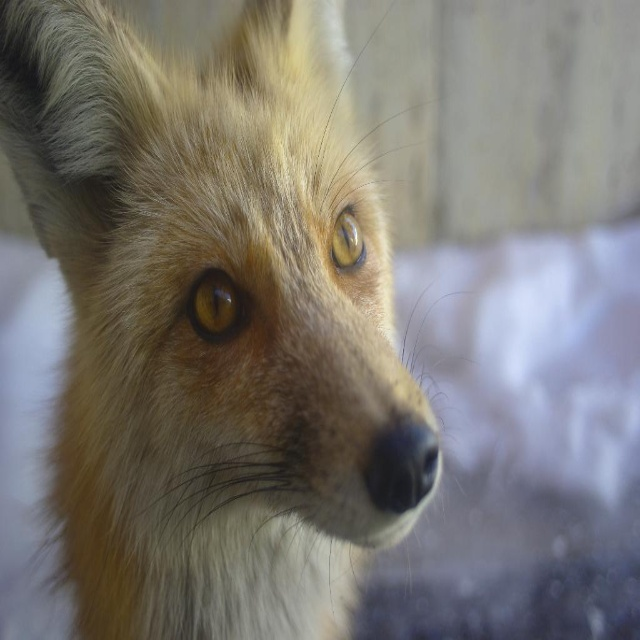Fox: (0, 0, 482, 639)
